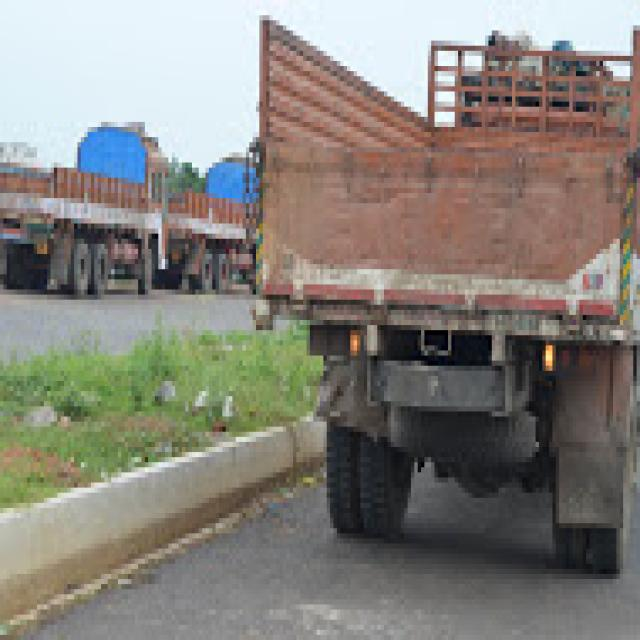truck_back: (254, 0, 640, 580), (0, 113, 173, 301), (165, 154, 256, 296)
